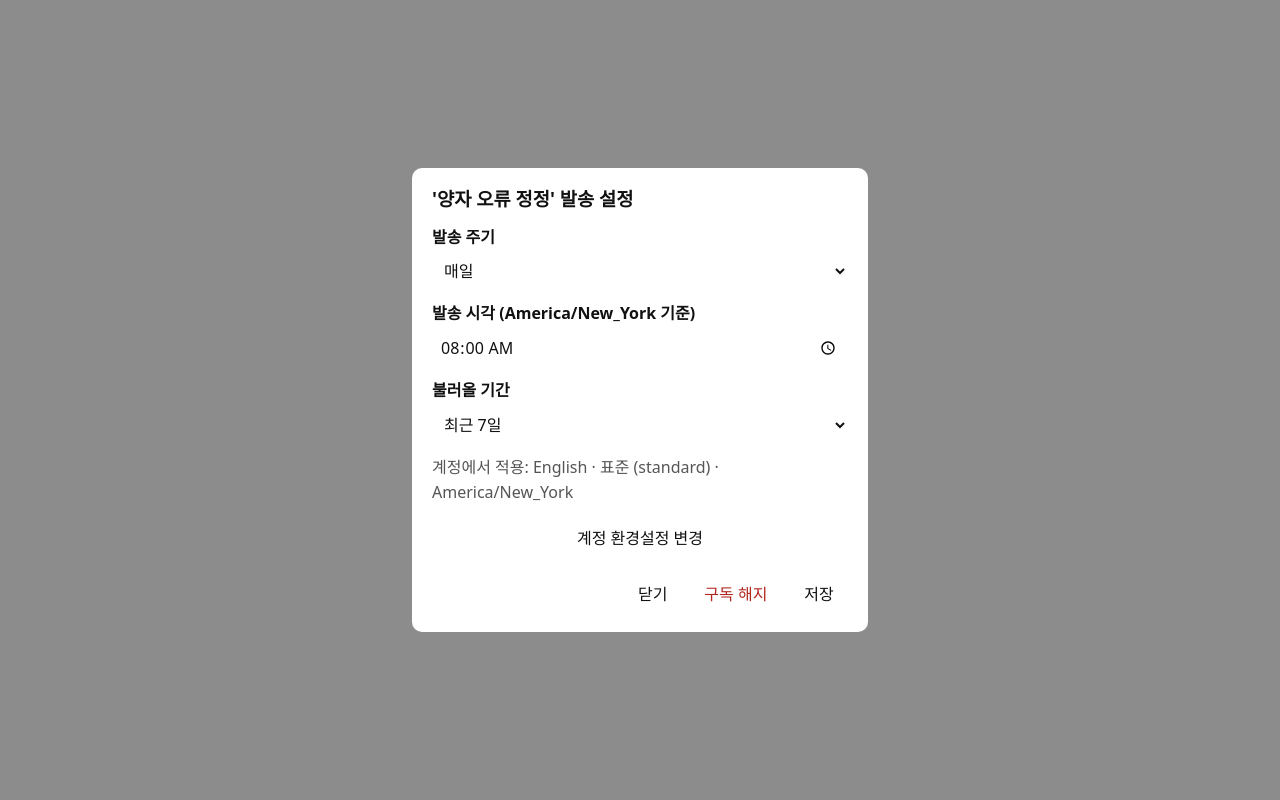
Test: inherited preference readout › refreshes the readout after an acknowledged owner-preference save
Expected: the text "계정에서 적용: English · 표준 (standard) · America/New_York" is shown, [432,456,719,503]
Click the button with test id "preferences-toggle".
click(640, 538)  # box [432,516,848,560]
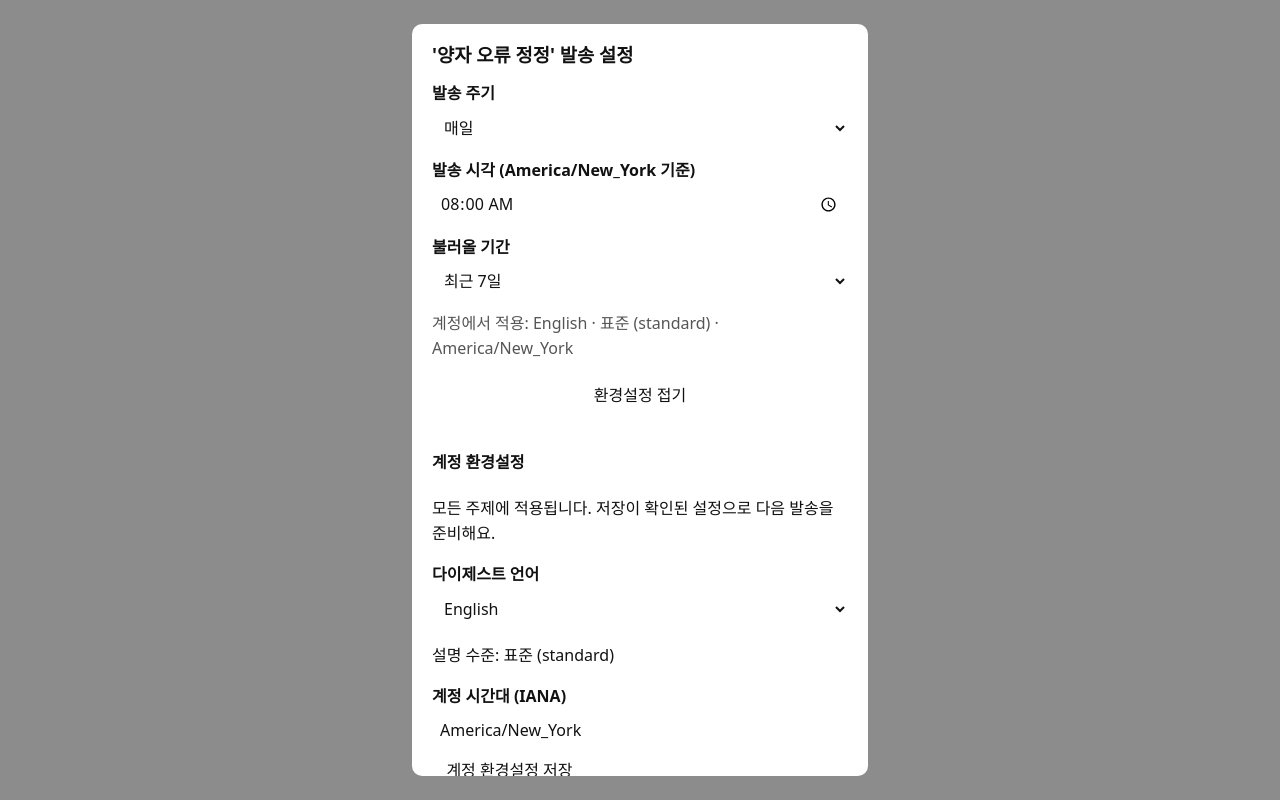
Select "한국어" in the dropdown with test id "digest-language" at (640, 609), box [432,591,848,627]
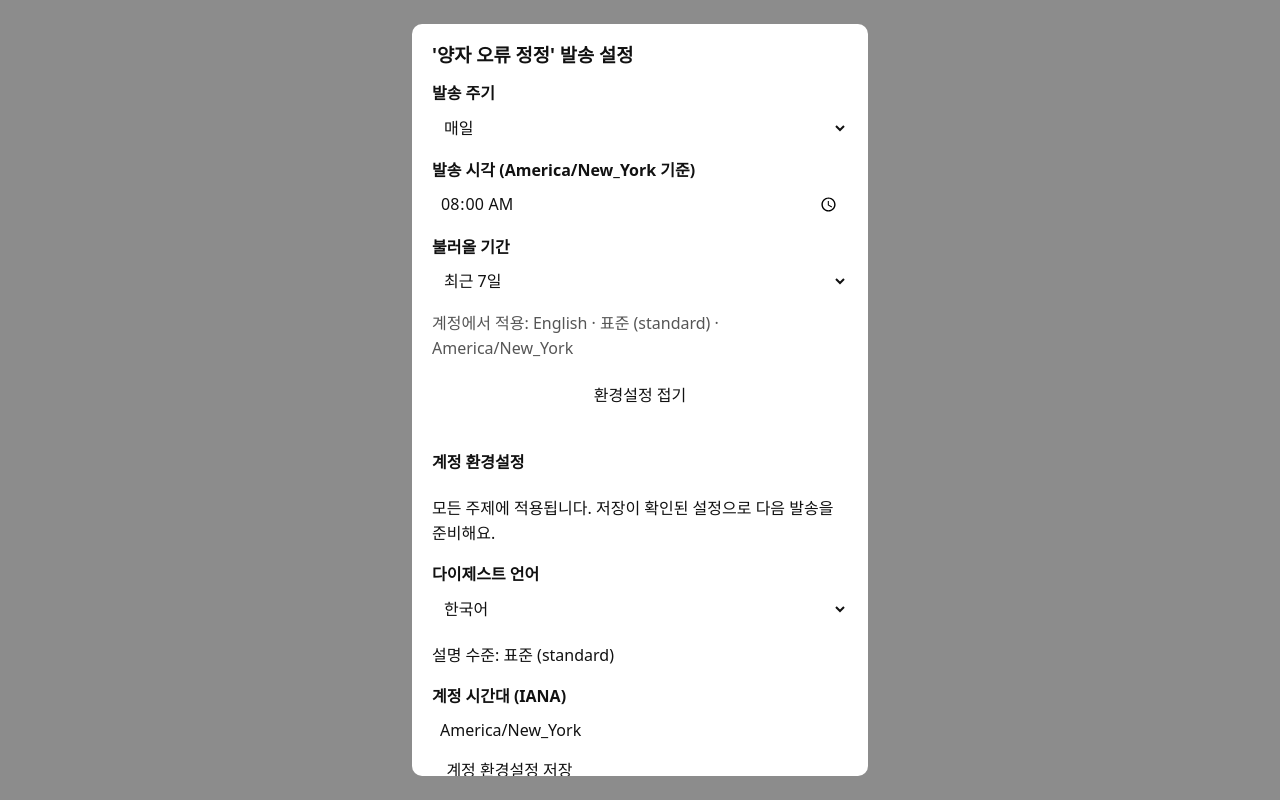
Replace the text in the field with test id "digest-timezone" with "Asia/Seoul" at (640, 730), box [432,712,848,748]
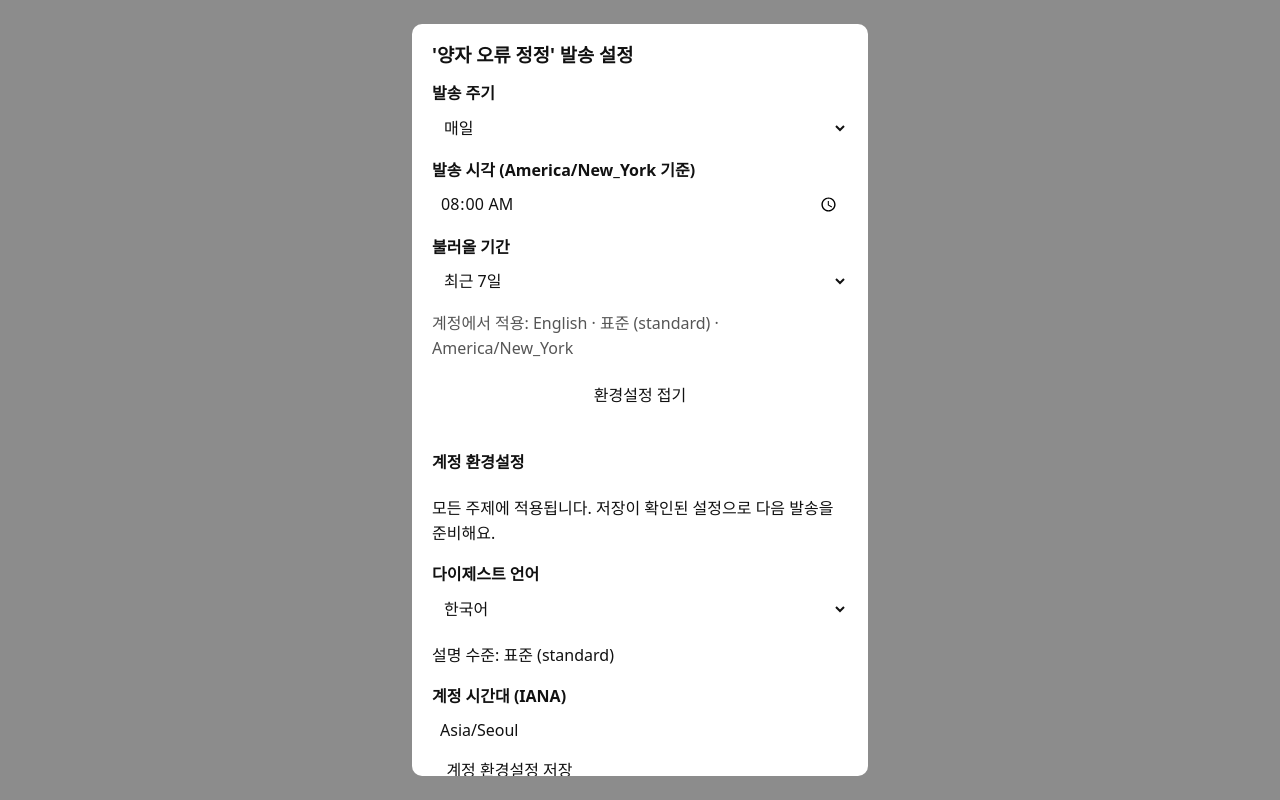
Click the button with test id "preferences-save".
click(509, 770)  # box [432,748,587,792]
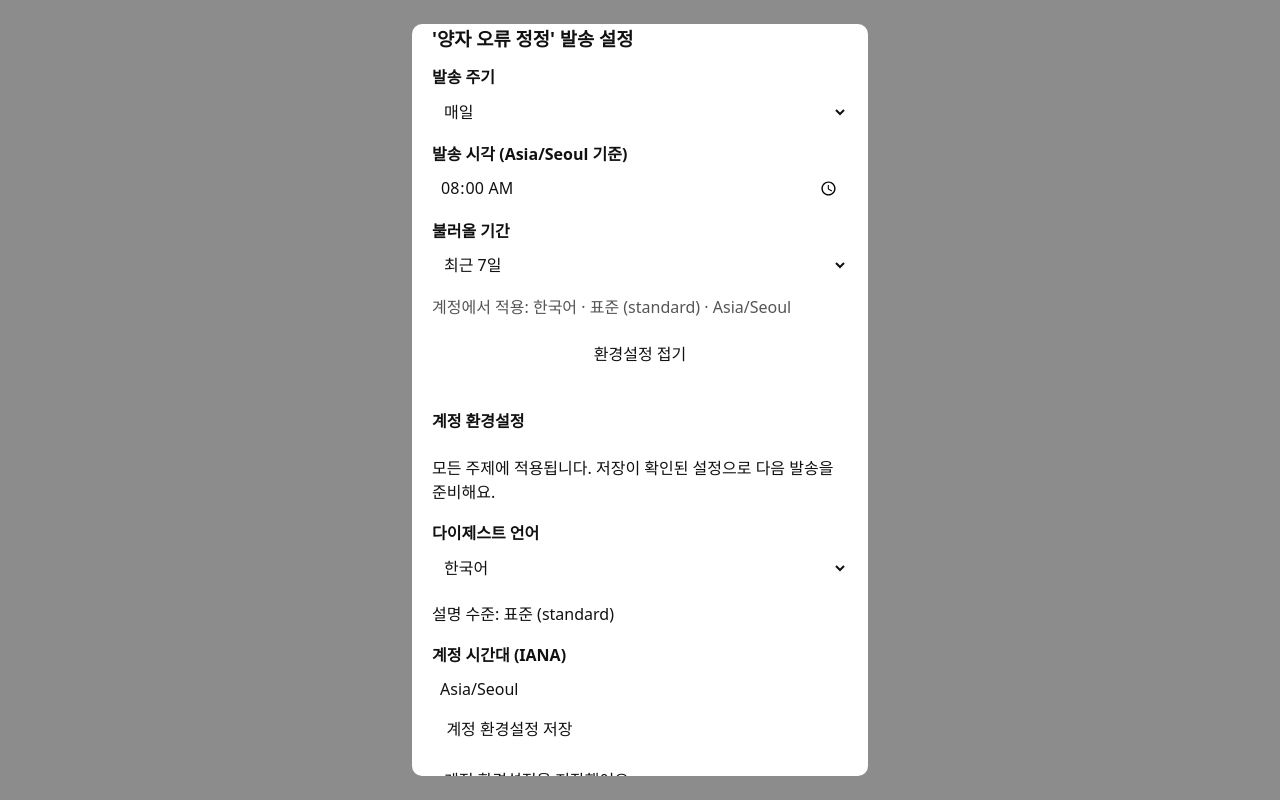
Expected: the text with test id "inherited-note" shows "한국어 · 표준 (standard) · Asia/Seoul", [432,296,791,318]
